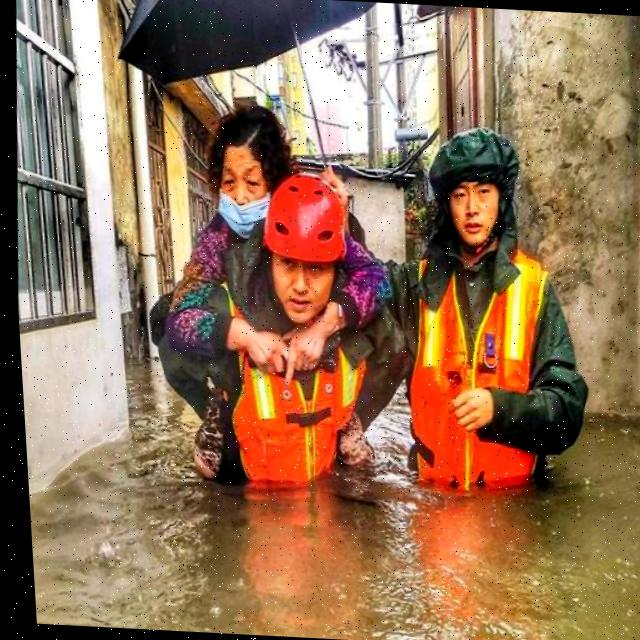civilian: (138, 93, 417, 491)
rescuer: (122, 158, 432, 504), (368, 118, 616, 510)
